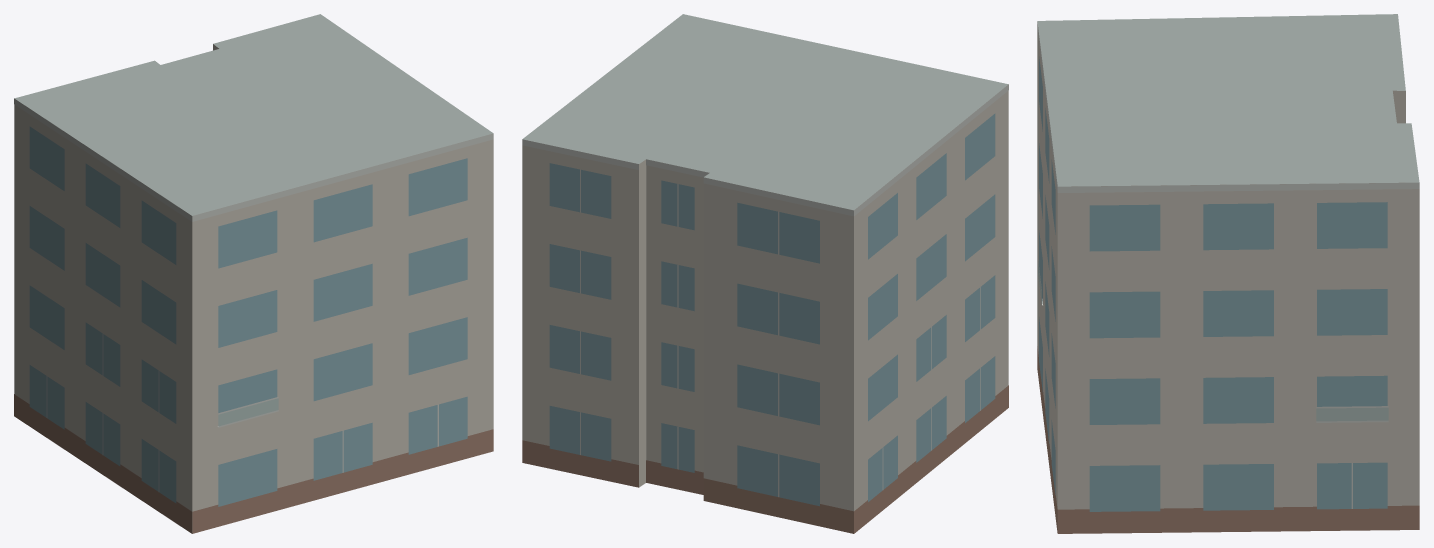
The model's file is survey-upis-32743167.glb.
3 renders of one model, left to right at view 1: azimuth 30°, elevation 25°; view 2: azimuth 150°, elevation 25°; view 3: azimuth 270°, elevation 25°, orthographic. The views are drawn at different scales.
Visible parts, largest first — view 1: survey-upis-32743167.tmp; view 2: survey-upis-32743167.tmp; view 3: survey-upis-32743167.tmp.
Part boxes in pixels (x1,y1,x2,y2): survey-upis-32743167.tmp: [14, 14, 493, 533]; survey-upis-32743167.tmp: [522, 14, 1008, 533]; survey-upis-32743167.tmp: [1037, 14, 1419, 533].
Size of the model in its own units: 13.87 by 13 by 12.98.
